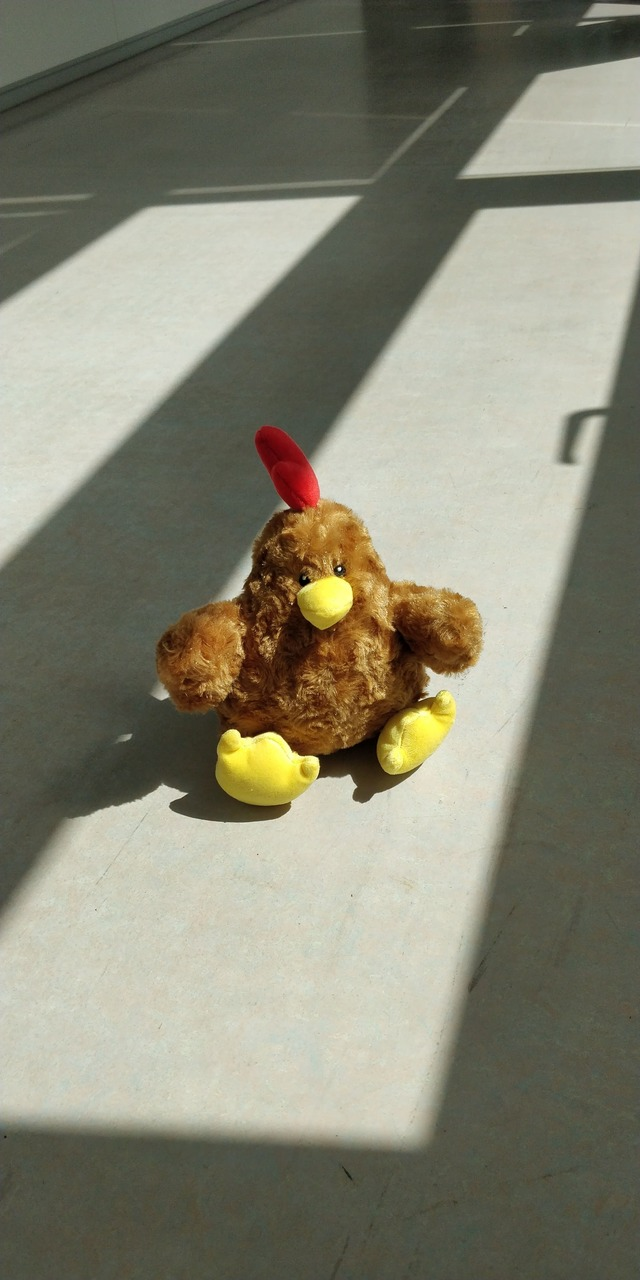fakeChicken: (155, 427, 482, 808)
